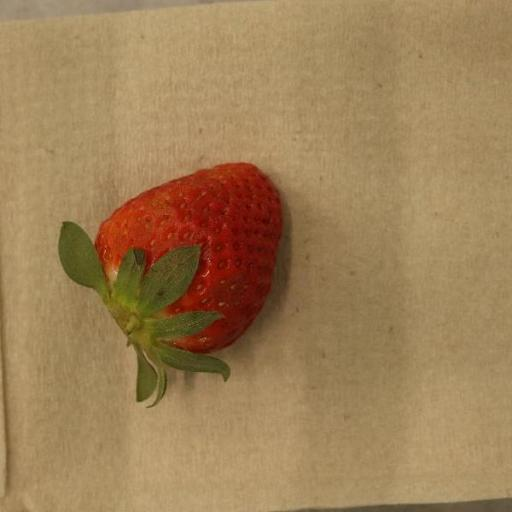Strawberry: (57, 163, 282, 409)
